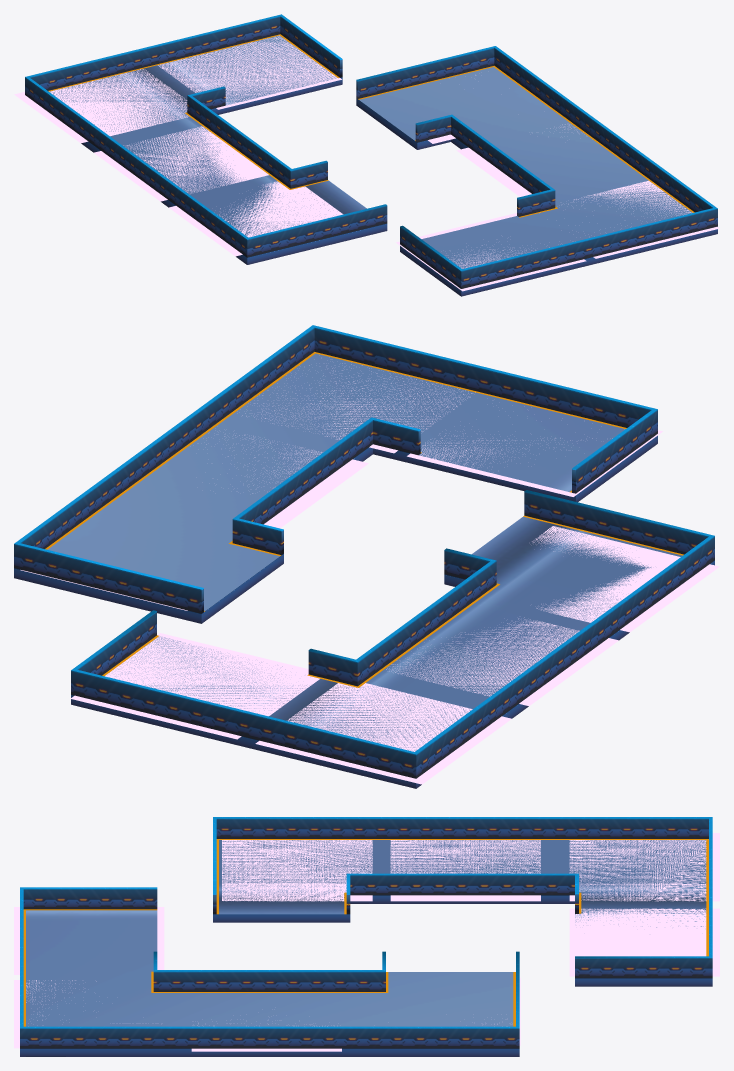
Rendered from Duel_Stage 48.fbx.
3 renders of one model, top to bottom at view 1: azimuth 30°, elevation 25°; view 2: azimuth 150°, elevation 25°; view 3: azimuth 270°, elevation 25°, orthographic. The views are drawn at different scales.
Parts seen in each view (by area): view 1: DB_Platform_Cube_Floor__1_, DB_Platform_Cube_Floor__1_.001, Plane.024, Plane.023, Plane.025, Plane.022, Plane.027, DB_Platform_Cube_Floor__1_.002, Plane.026, Plane.028; view 2: DB_Platform_Cube_Floor__1_, DB_Platform_Cube_Floor__1_.001, Plane.024, Plane.023, Plane.025, Plane.022, DB_Platform_Cube_Floor__1_.002, Plane.028, Plane.027, Plane.026; view 3: DB_Platform_Cube_Floor__1_, DB_Platform_Cube_Floor__1_.001, Plane.022, Plane.023, Plane.024, Plane.025, DB_Platform_Cube_Floor__1_.002, Plane.026, Plane.028, Plane.027.
Part boxes in pixels (bbox=[...]): DB_Platform_Cube_Floor__1_: bbox=[50, 35, 717, 296]; DB_Platform_Cube_Floor__1_.001: bbox=[25, 14, 717, 288]; Plane.024: bbox=[158, 35, 341, 109]; Plane.023: bbox=[14, 69, 188, 143]; Plane.025: bbox=[94, 126, 268, 201]; Plane.022: bbox=[169, 181, 343, 256]; Plane.027: bbox=[568, 180, 719, 258]; DB_Platform_Cube_Floor__1_.002: bbox=[48, 34, 694, 217]; Plane.026: bbox=[396, 213, 586, 291]; Plane.028: bbox=[456, 124, 577, 196]; DB_Platform_Cube_Floor__1_: bbox=[14, 353, 714, 788]; DB_Platform_Cube_Floor__1_.001: bbox=[14, 325, 714, 778]; Plane.024: bbox=[70, 633, 319, 739]; Plane.023: bbox=[255, 683, 511, 784]; Plane.025: bbox=[386, 617, 618, 705]; Plane.022: bbox=[532, 526, 719, 632]; DB_Platform_Cube_Floor__1_.002: bbox=[45, 352, 683, 687]; Plane.028: bbox=[206, 435, 368, 528]; Plane.027: bbox=[242, 363, 475, 453]; Plane.026: bbox=[407, 430, 662, 496]; DB_Platform_Cube_Floor__1_: bbox=[20, 840, 712, 1056]; DB_Platform_Cube_Floor__1_.001: bbox=[20, 817, 712, 1048]; Plane.022: bbox=[222, 840, 372, 901]; Plane.023: bbox=[569, 833, 719, 901]; Plane.024: bbox=[569, 908, 719, 976]; Plane.025: bbox=[390, 840, 540, 901]; DB_Platform_Cube_Floor__1_.002: bbox=[23, 839, 708, 1026]; Plane.026: bbox=[14, 907, 164, 974]; Plane.028: bbox=[191, 1023, 341, 1051]; Plane.027: bbox=[14, 980, 96, 1048].
Size of the model in its own units: 5571 by 341 by 7601.
